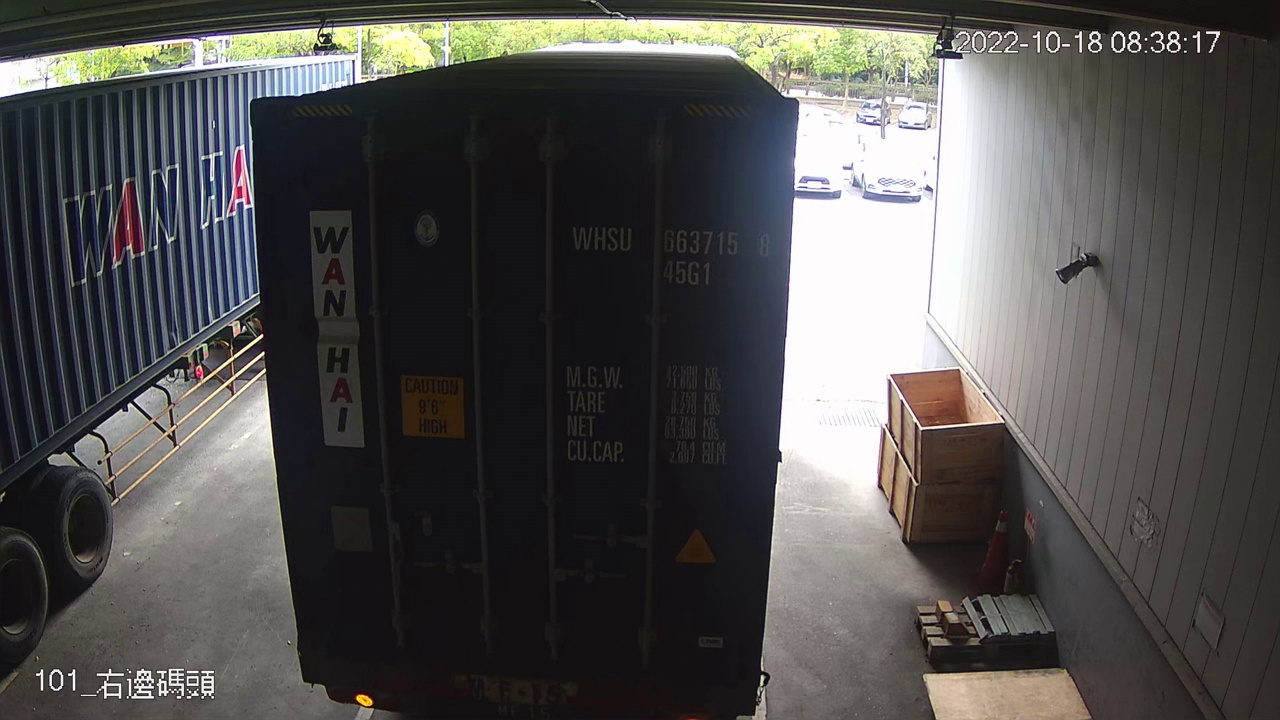container: (565, 215, 780, 294)
